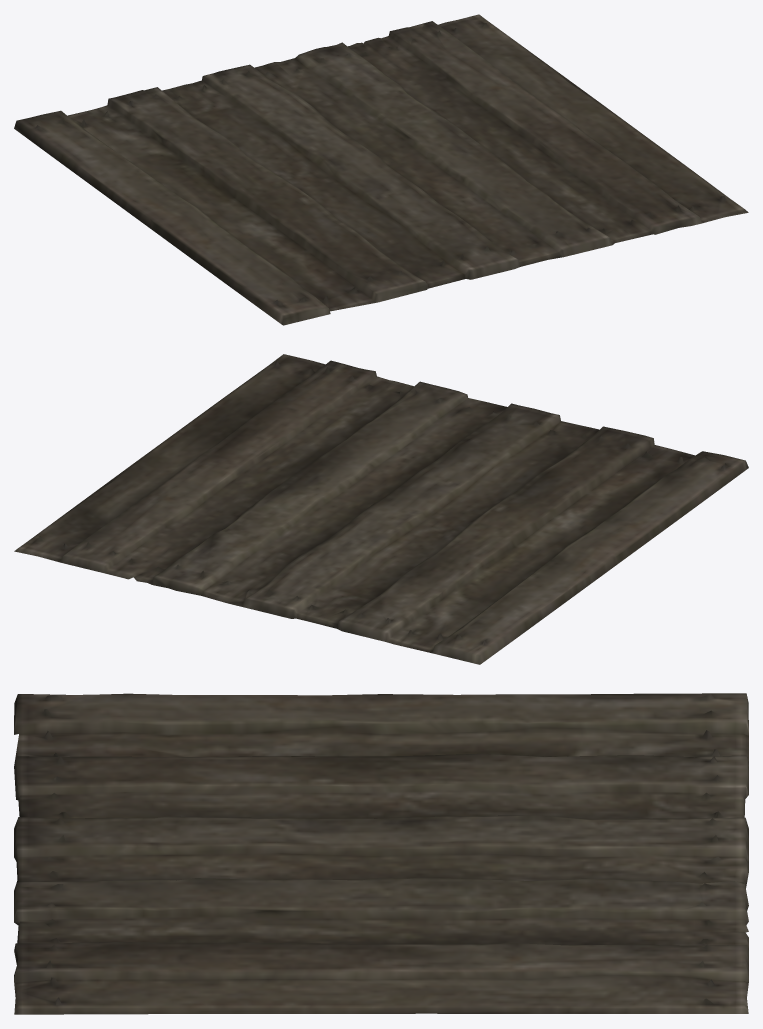
File: Planks_01.fbx
3 renders of one model, top to bottom at view 1: azimuth 30°, elevation 25°; view 2: azimuth 150°, elevation 25°; view 3: azimuth 270°, elevation 25°, orthographic. The views are drawn at different scales.
Visible parts, largest first — view 1: Planks_01; view 2: Planks_01; view 3: Planks_01.
Boxes of the visible parts, box(x1,y1,x2,y2) form: Planks_01: box(14, 14, 748, 325); Planks_01: box(14, 354, 748, 664); Planks_01: box(14, 693, 748, 1014).
Size of what is drawn, in the model's own units: 358 by 9.8 by 358.
